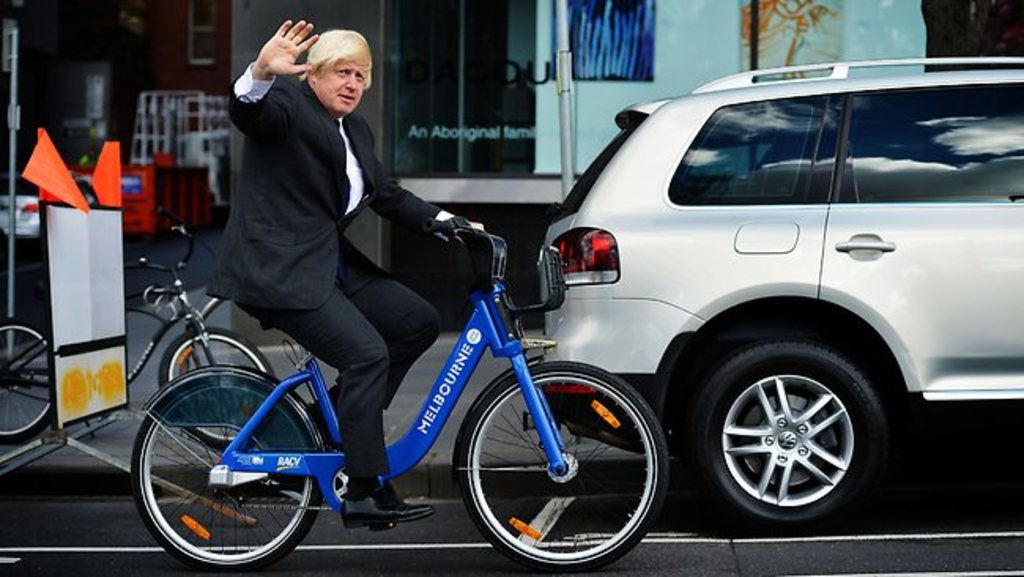Bike: (129, 213, 630, 527)
